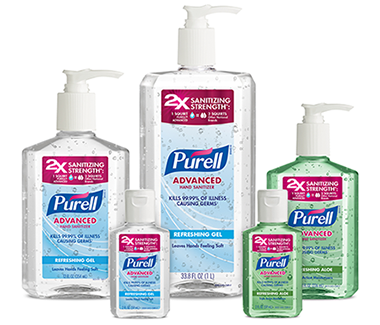Sanitizer: (135, 2, 261, 303), (17, 63, 131, 303), (263, 99, 366, 302), (239, 186, 306, 319), (106, 187, 170, 319)
